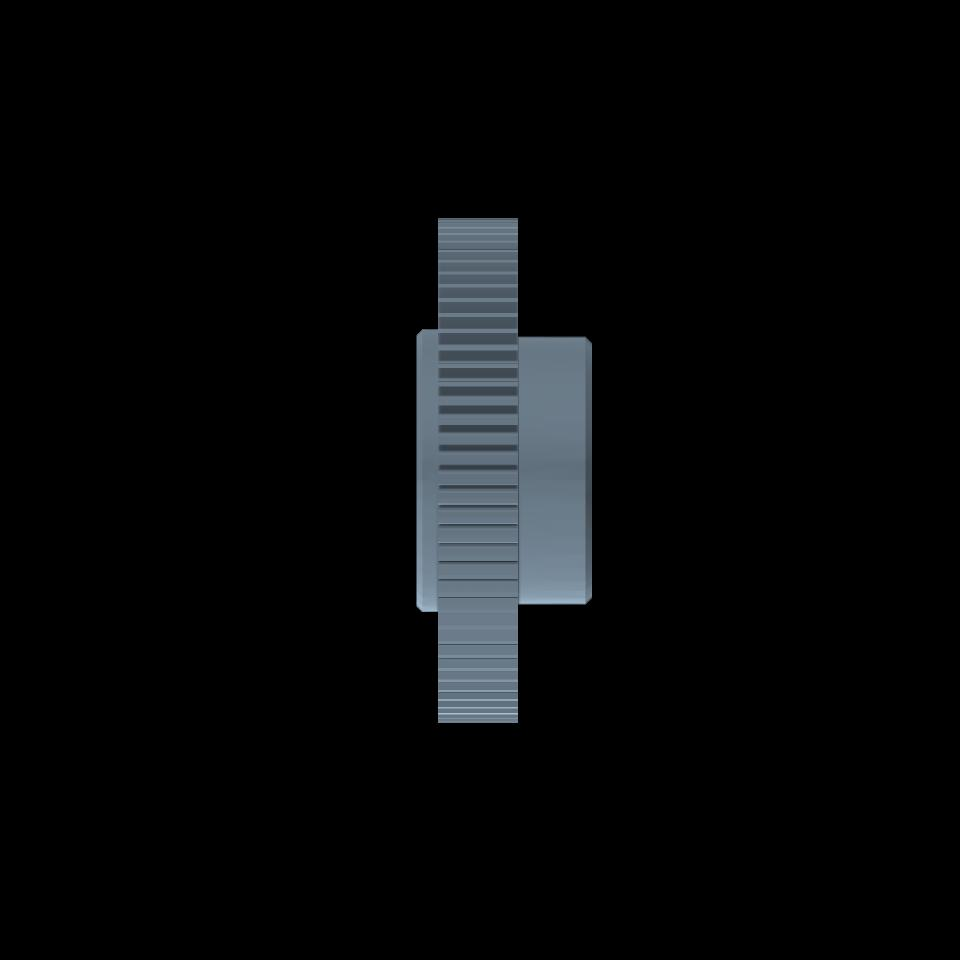Straight: (438, 218, 518, 722)
